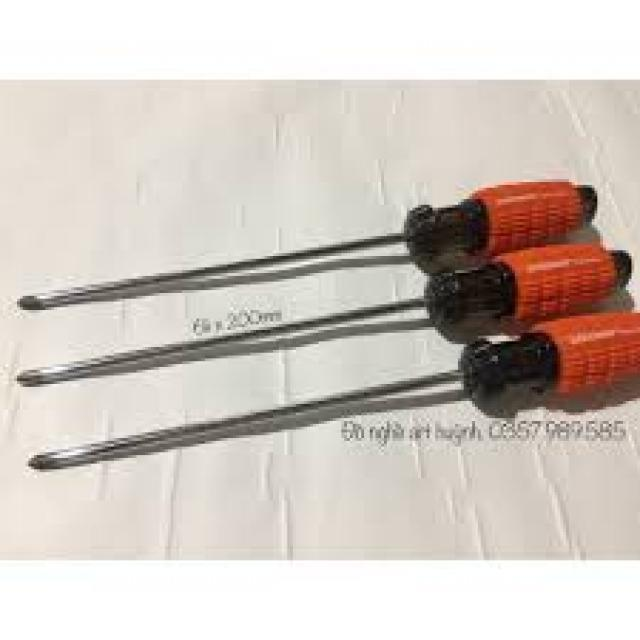screwdriver: (48, 276, 614, 373)
